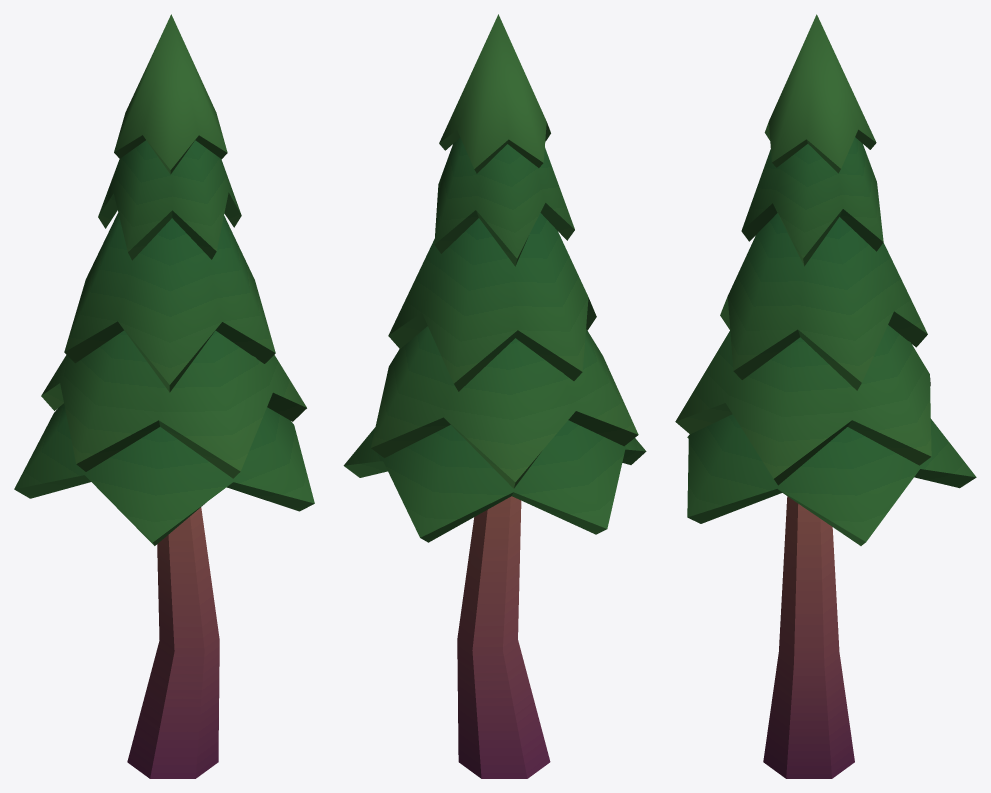
File: TreePine2.fbx
The picture shows the model from 3 angles, left to right: view 1: azimuth 30°, elevation 25°; view 2: azimuth 150°, elevation 25°; view 3: azimuth 270°, elevation 25°; orthographic projection.
Parts seen in each view (by area): view 1: Cylinder.002; view 2: Cylinder.002; view 3: Cylinder.002.
Boxes of the visible parts, x1,y1,x2,y2 form: Cylinder.002: (14, 14, 314, 778); Cylinder.002: (343, 14, 646, 778); Cylinder.002: (675, 14, 976, 778).
Size of the model in its own units: 210 by 570 by 208.
